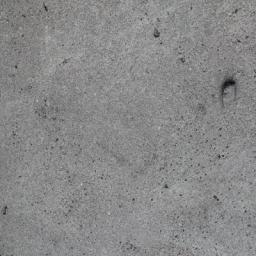FOD: (218, 79, 241, 109)
